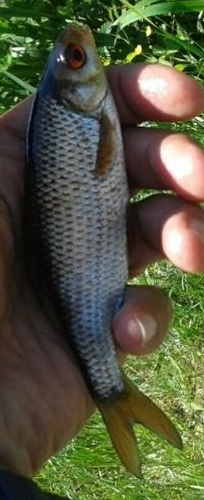Rutilus rutilus: (20, 20, 184, 480)
